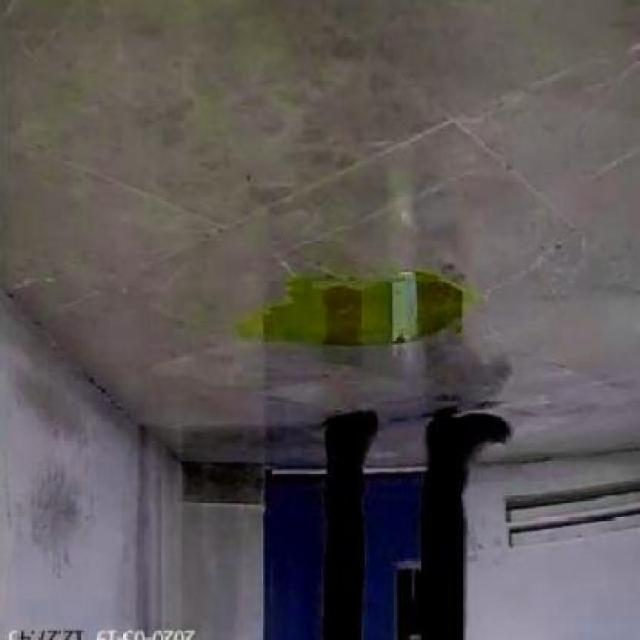spillage: (255, 269, 461, 346)
